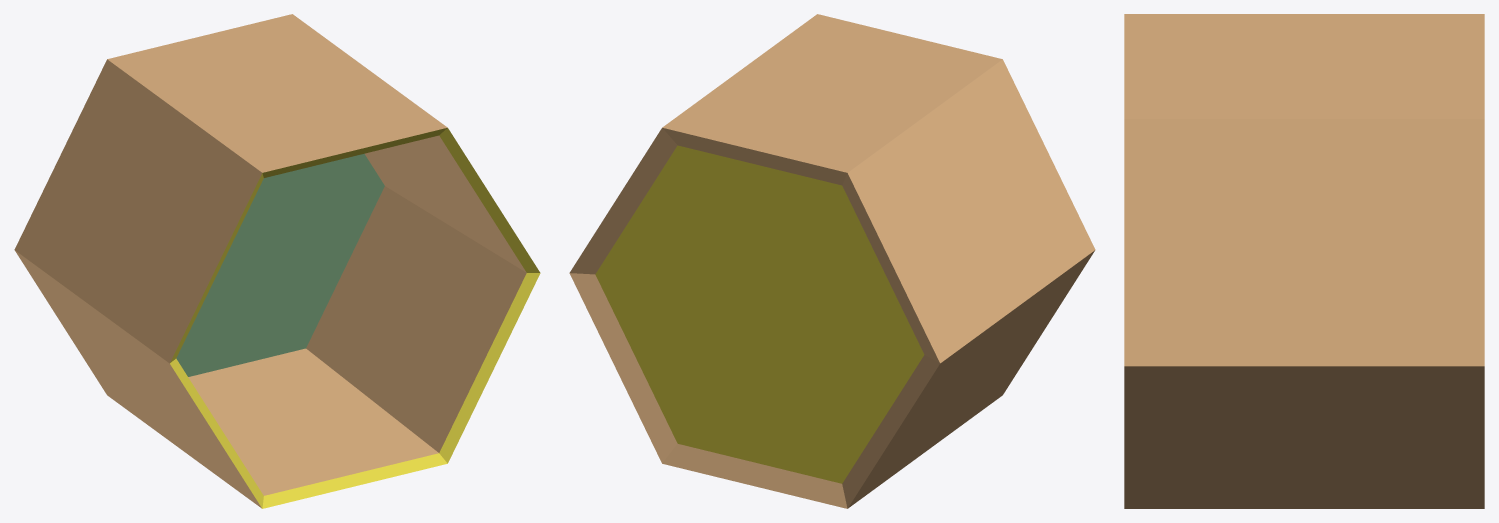
File: BeehiveGreen-transformed.glb
3 renders of one model, left to right at view 1: azimuth 30°, elevation 25°; view 2: azimuth 150°, elevation 25°; view 3: azimuth 270°, elevation 25°, orthographic. The views are drawn at different scales.
Parts seen in each view (by area): view 1: pCylinder2.001; view 2: pCylinder2.001; view 3: pCylinder2.001.
Part boxes in pixels (bbox=[...]): pCylinder2.001: bbox=[14, 14, 540, 508]; pCylinder2.001: bbox=[569, 14, 1095, 508]; pCylinder2.001: bbox=[1124, 14, 1484, 508].
Bounding box in the file's own units: 0.02 × 0.0173 × 0.0145.
